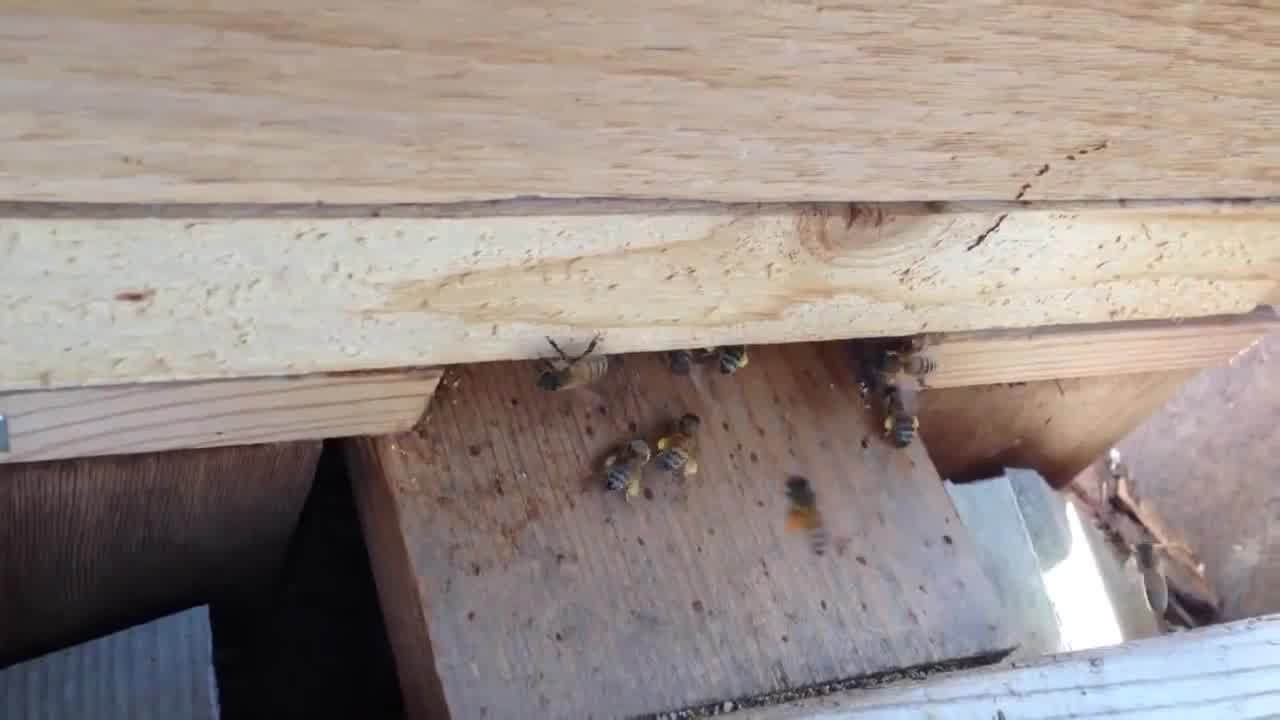pollen: (589, 428, 653, 503), (648, 410, 706, 479), (872, 384, 924, 452)
